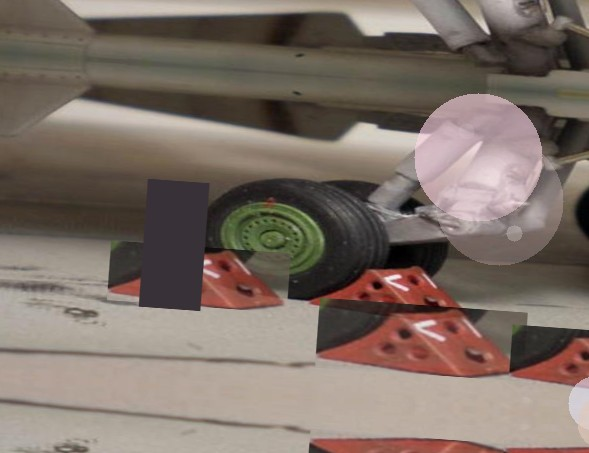chock: (315, 298, 528, 382), (107, 240, 291, 313), (306, 257, 472, 323), (508, 324, 589, 397)
wheel: (191, 171, 392, 306)
